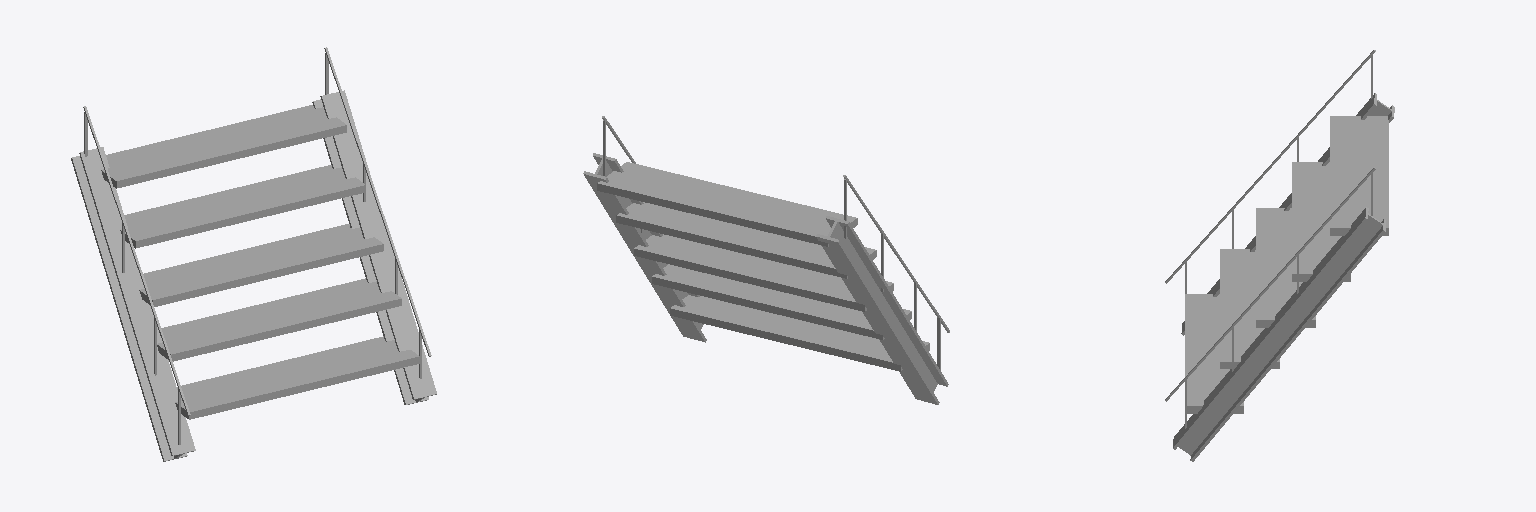
File: ladder.obj
The picture shows the model from 3 angles: view 1: azimuth 30°, elevation 25°; view 2: azimuth 150°, elevation 25°; view 3: azimuth 270°, elevation 25°; orthographic projection.
Visible parts, largest first — view 1: ___.6, ___.4, ___.2, ___, ___.1, ___.3, ___.5, ___.14, ___.9; view 2: ___.4, ___.6, ___.1, ___.3, ___.2, ___, ___.5, ___.14; view 3: ___.5, ___.4, ___.2, ___.1, ___, ___.3, ___.6, ___.9, ___.14.
Part boxes in pixels (left/top/right/bottom): ___.6: left=71, top=147, right=195, bottom=461; ___.4: left=101, top=105, right=346, bottom=188; ___.2: left=120, top=165, right=365, bottom=248; ___: left=157, top=278, right=401, bottom=361; ___.1: left=139, top=224, right=383, bottom=306; ___.3: left=175, top=336, right=419, bottom=419; ___.5: left=312, top=90, right=436, bottom=404; ___.14: left=83, top=106, right=190, bottom=415; ___.9: left=324, top=47, right=431, bottom=356; ___.4: left=597, top=162, right=857, bottom=246; ___.6: left=816, top=216, right=948, bottom=404; ___.1: left=634, top=234, right=893, bottom=311; ___.3: left=670, top=295, right=929, bottom=371; ___.2: left=616, top=202, right=876, bottom=278; ___: left=652, top=264, right=911, bottom=339; ___.5: left=583, top=153, right=706, bottom=342; ___.14: left=843, top=175, right=949, bottom=332; ___.5: left=1173, top=207, right=1385, bottom=461; ___.4: left=1330, top=116, right=1388, bottom=235; ___.2: left=1292, top=162, right=1350, bottom=281; ___.1: left=1256, top=208, right=1315, bottom=327; ___: left=1220, top=249, right=1279, bottom=368; ___.3: left=1185, top=294, right=1243, bottom=413; ___.6: left=1181, top=93, right=1394, bottom=335; ___.9: left=1165, top=167, right=1375, bottom=401; ___.14: left=1165, top=50, right=1375, bottom=283.
Size of the model in its own units: 941 by 991 by 709.